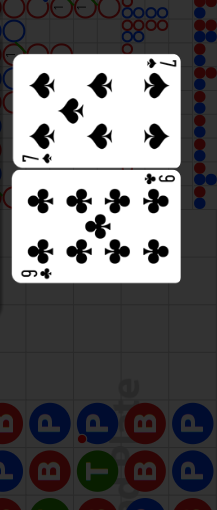7S: (144, 58, 177, 71)
